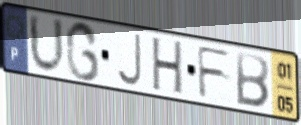B: (234, 49, 271, 111)
F: (195, 44, 233, 100)
G: (65, 20, 102, 84)
H: (151, 36, 185, 98)
J: (114, 32, 143, 88)
U: (27, 11, 67, 77)
